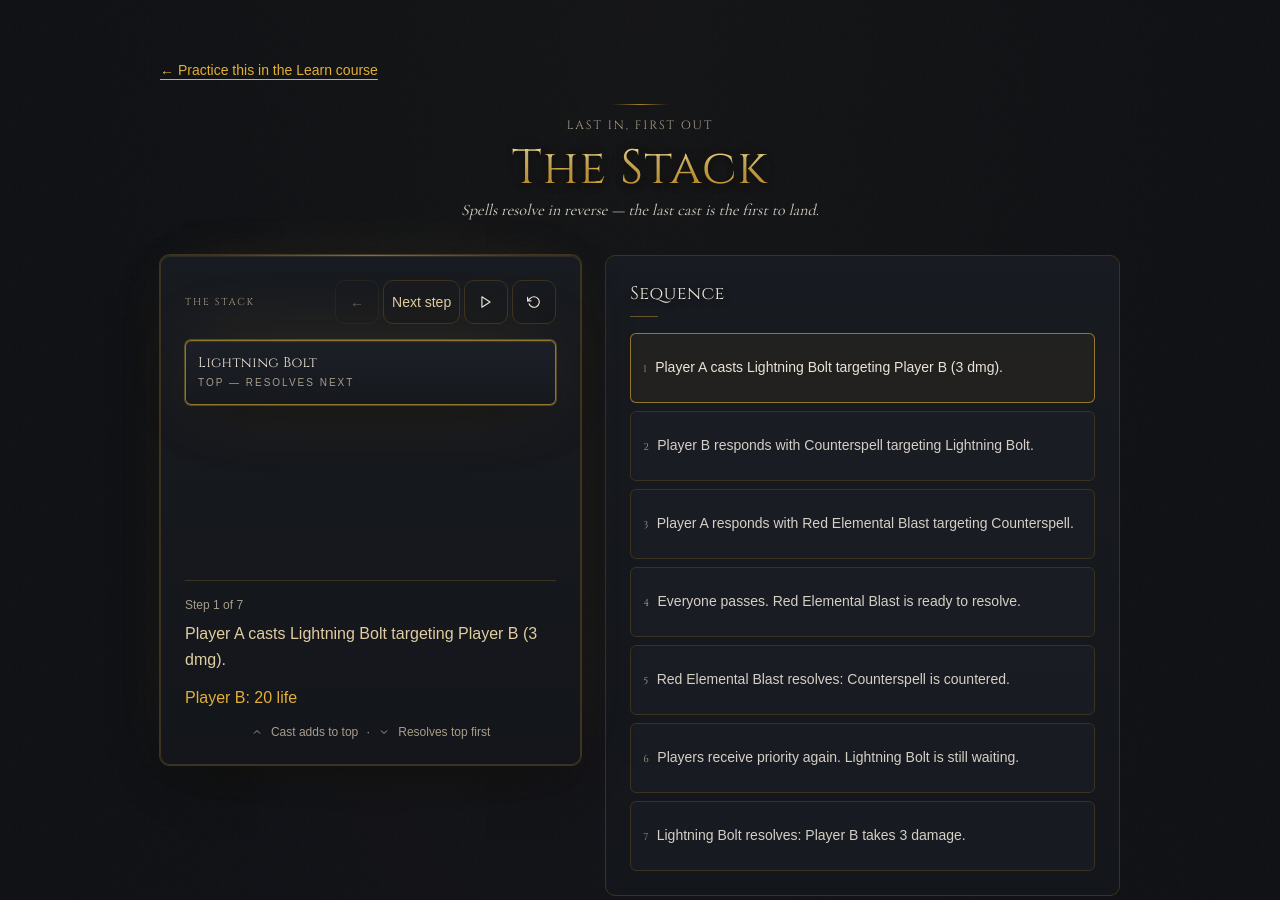
Test: StackPage (animated demo) › places the newest spell on top and empties after final resolution
Click the button "Next step". click: (422, 302)
box: [383,280,460,324]
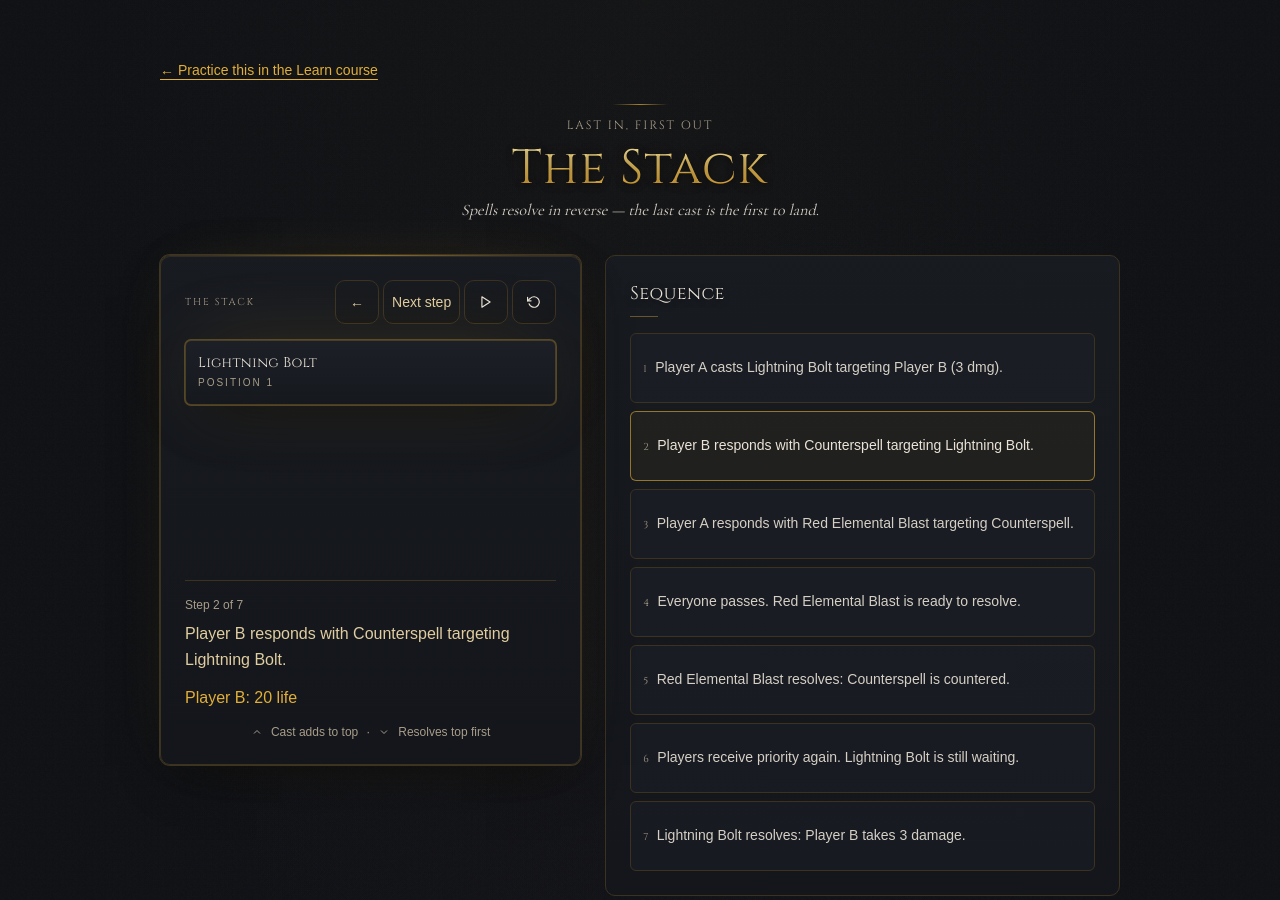
Expected: the element with test id "stack-top" shows "Counterspell", [198,353,305,372]
Click the button "Next step". click: (422, 302)
box: [383,280,460,324]
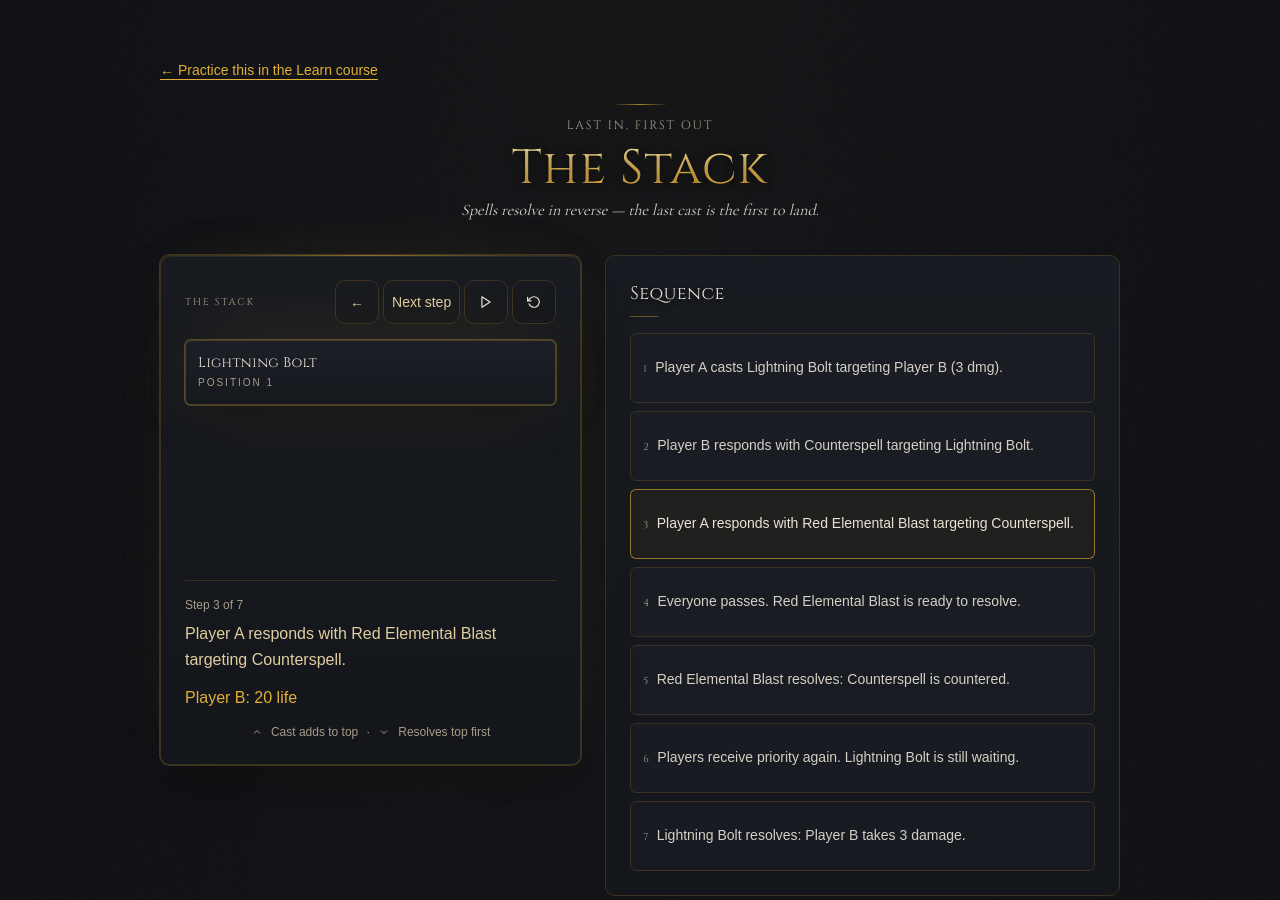
Expected: the element with test id "stack-top" shows "Red Elemental Blast", [198,353,356,372]
Click the button "Next step". click: (422, 302)
box: [383,280,460,324]
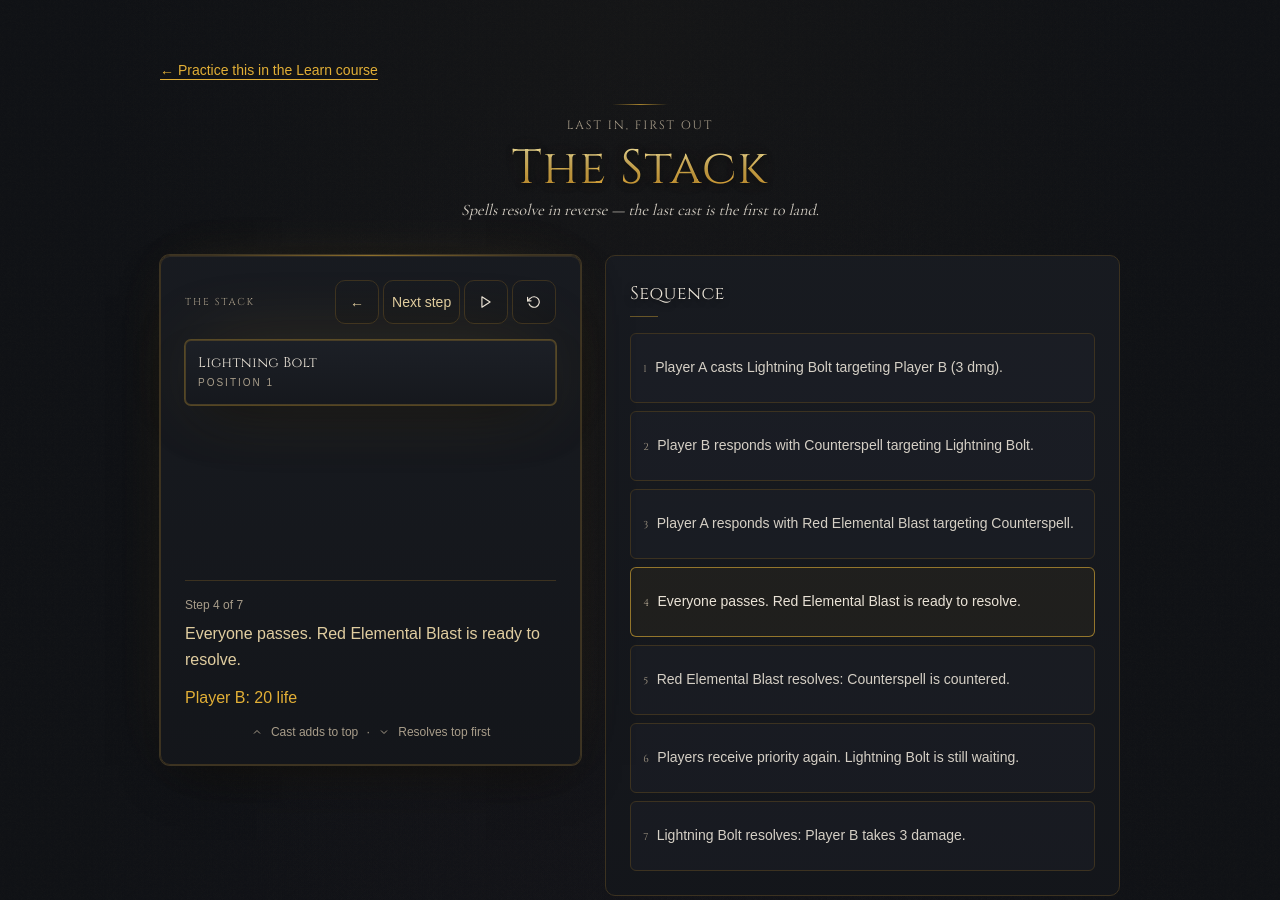
Expected: the element with test id "stack-top" shows "Red Elemental Blast", [198,353,356,372]
Click the button "Next step". click: (422, 302)
box: [383,280,460,324]
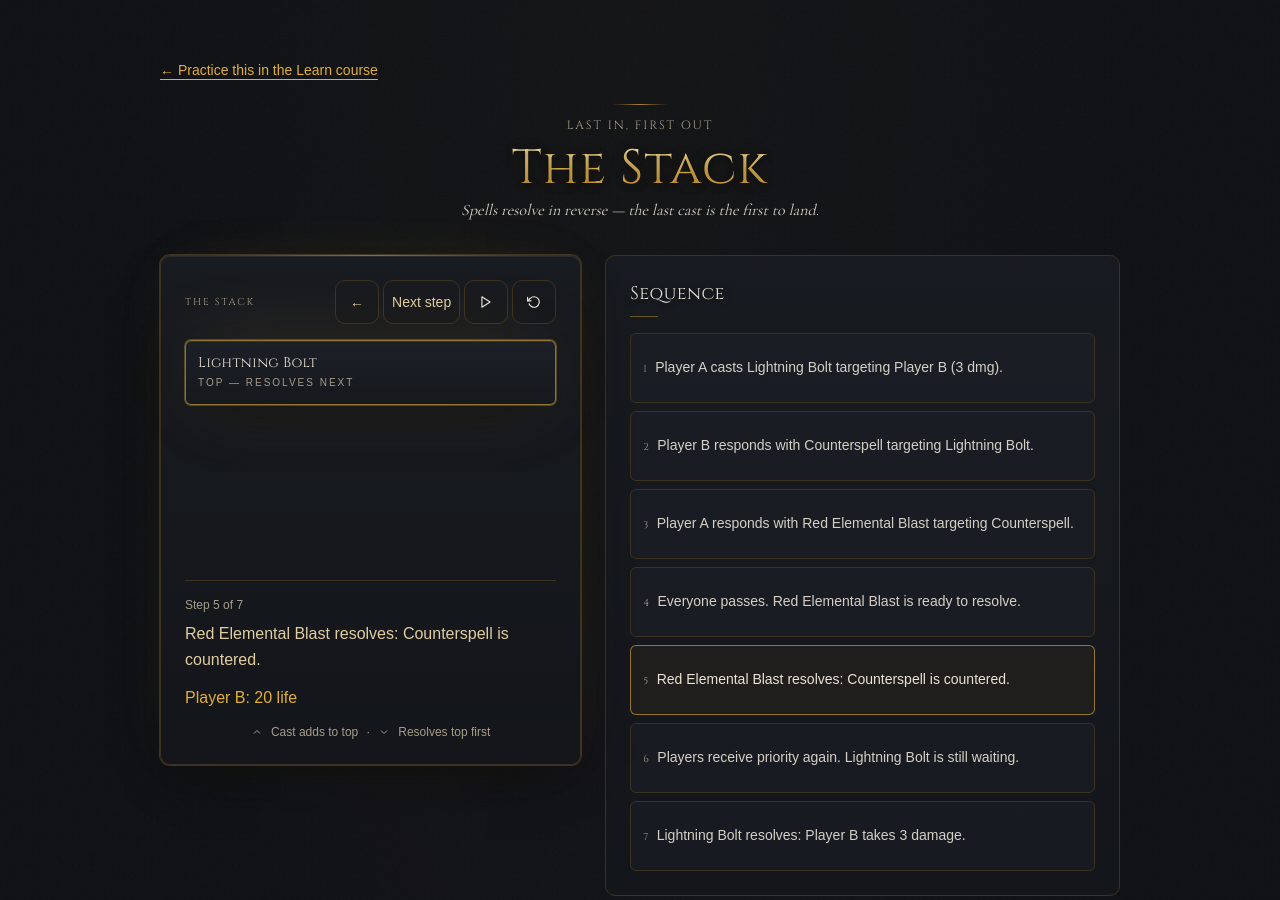
Expected: the element with test id "stack-top" shows "Lightning Bolt", [198,353,317,372]
Click the button "Next step". click: (422, 302)
box: [383,280,460,324]
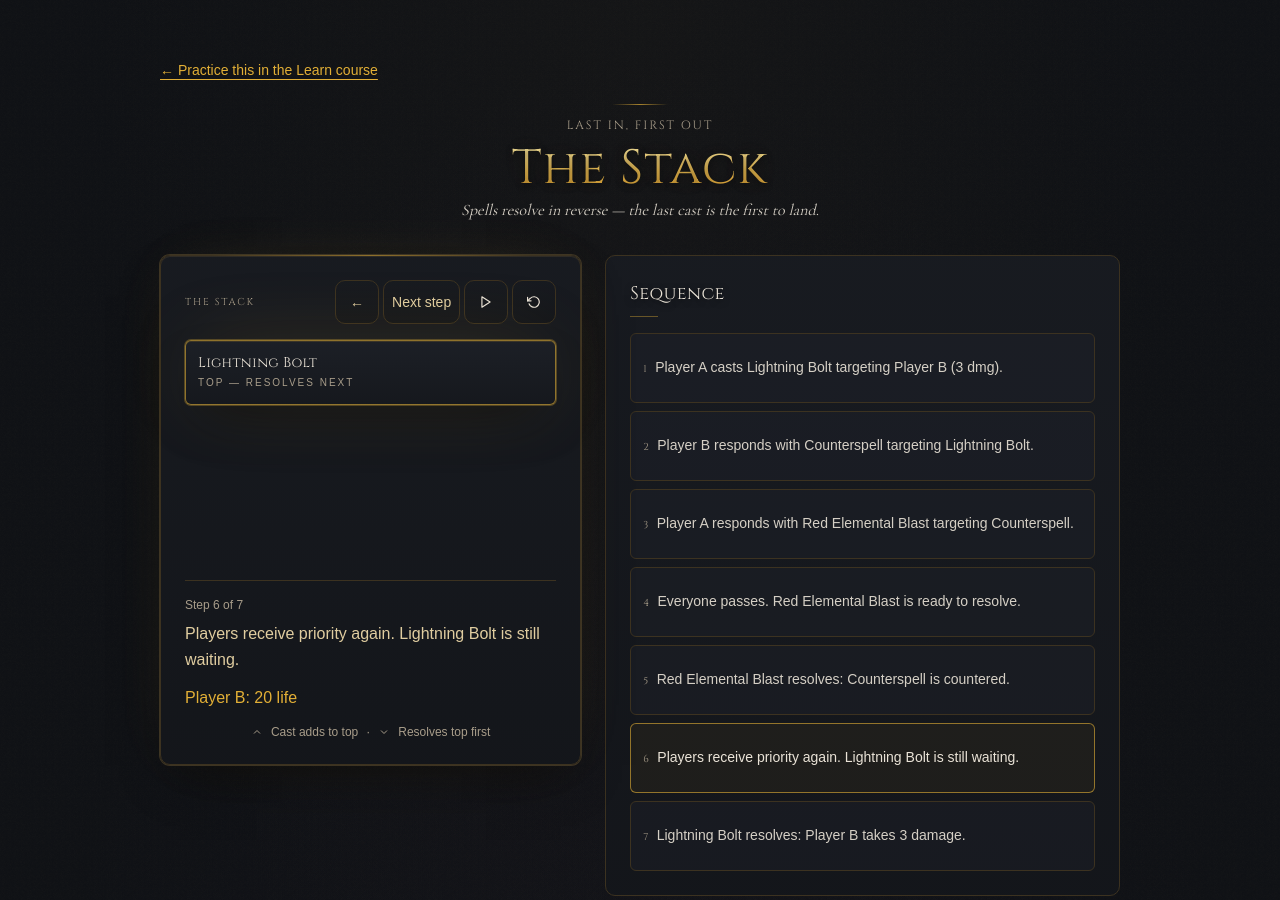
Click the button "Next step". click: (422, 302)
box: [383,280,460,324]
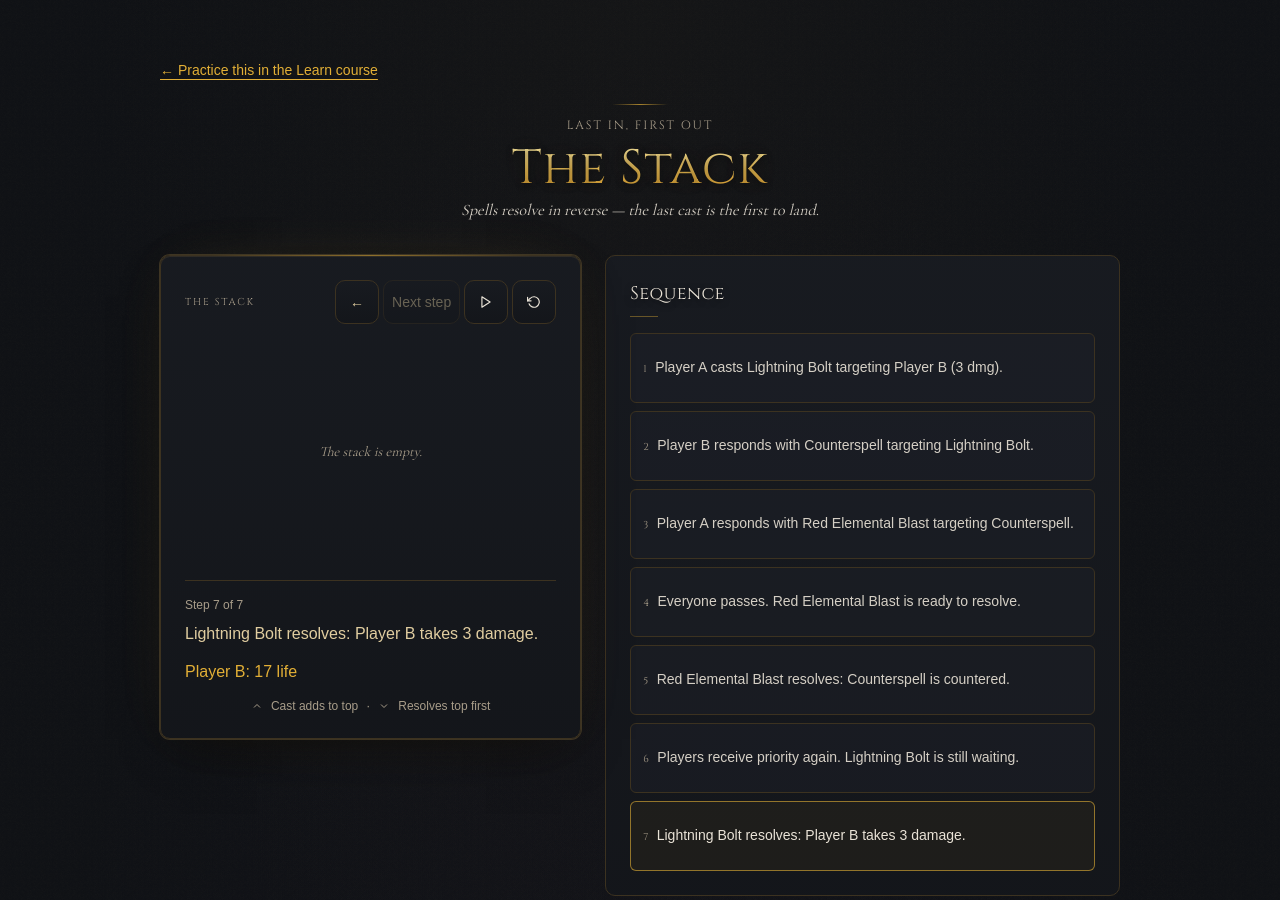
Now the text "The stack is empty." is shown, box [319,443,422,460]
